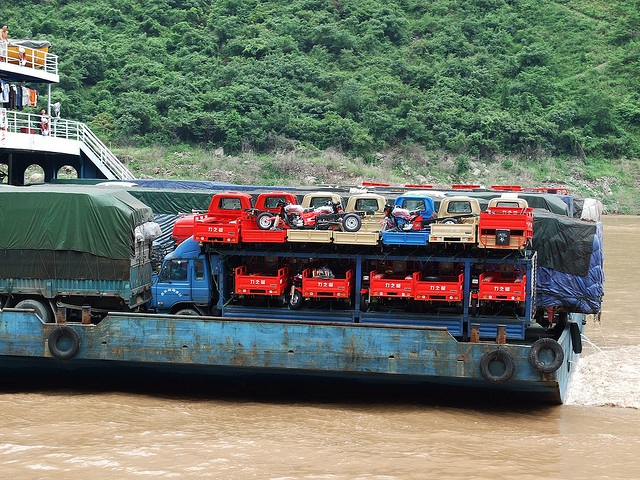non-vehicle: (243, 201, 304, 231), (313, 198, 366, 232), (377, 201, 426, 232), (468, 262, 486, 318), (287, 263, 308, 309)
